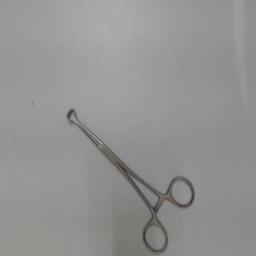Babcock Tissue Forceps: (65, 104, 197, 254)
